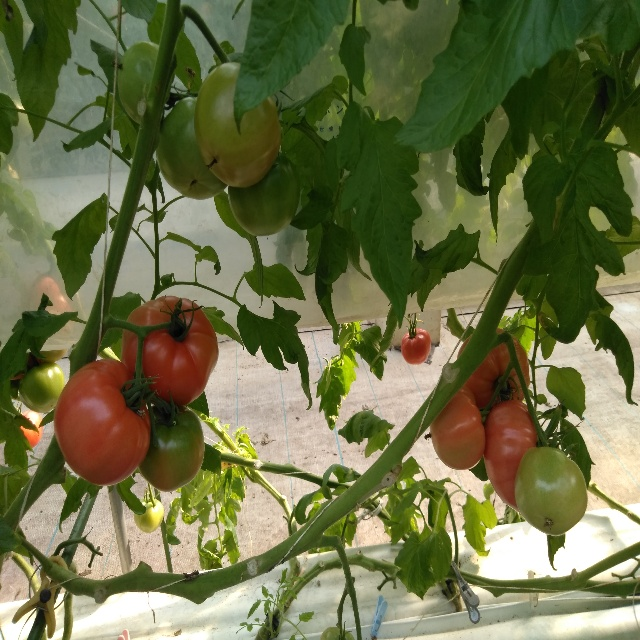b_fully_ripened: (54, 359, 152, 486), (121, 296, 219, 407), (483, 400, 543, 514), (401, 328, 432, 365)
b_green: (194, 61, 282, 190), (156, 97, 228, 200), (514, 447, 588, 536), (228, 151, 301, 237), (138, 403, 205, 492), (117, 40, 176, 124), (19, 361, 65, 413), (134, 498, 164, 533), (320, 626, 355, 640)
b_half_ripened: (456, 327, 530, 413), (430, 385, 486, 470), (20, 410, 43, 450)
